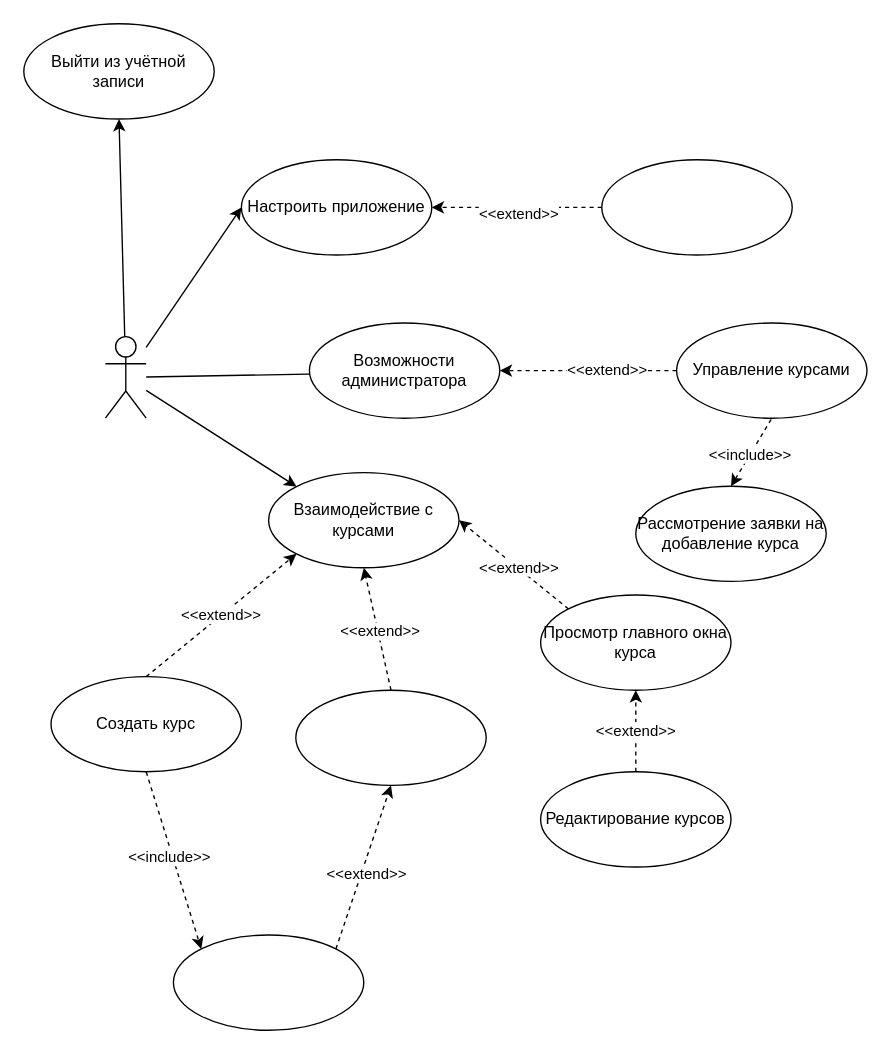
The diagram is 891 pixels wide and 1054 high, and some of its shapes have lost their labels. The shapes that lost their labels are listed below. From the top down, each one's centre as x and y in pixels, then its label:
At [696,206]: "Включение или выключение уведомлений".
At [125,376]: "Администратор".
At [390,737]: "Просмотр списка собственных курсов".
At [268,982]: "Взаимодействие с редактором курса".
